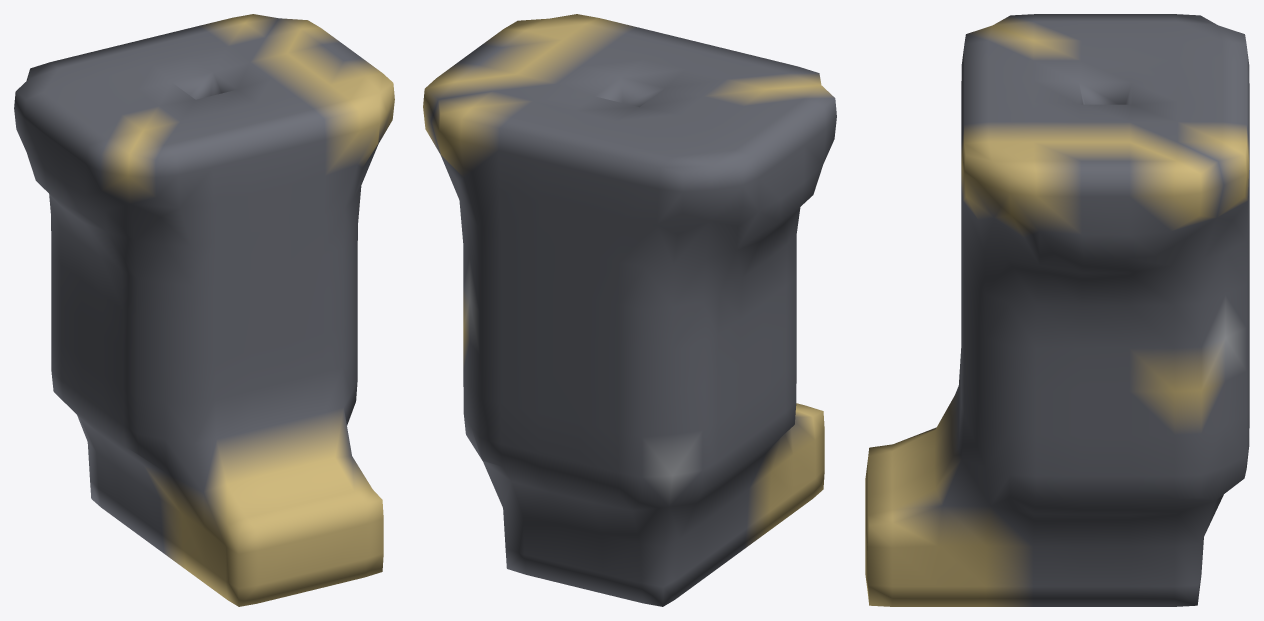
File: plate_legendary_glove_L_lod1.glb
3 views of the same model, side by side, from view 1: azimuth 30°, elevation 25°; view 2: azimuth 150°, elevation 25°; view 3: azimuth 270°, elevation 25° (orthographic). The views are drawn at different scales.
Visible parts, largest first — view 1: plate_legendary_glove_L_lod1; view 2: plate_legendary_glove_L_lod1; view 3: plate_legendary_glove_L_lod1.
Part boxes in pixels (box(x1,y1,x2,y2)): plate_legendary_glove_L_lod1: box(14, 14, 394, 606); plate_legendary_glove_L_lod1: box(423, 14, 836, 606); plate_legendary_glove_L_lod1: box(865, 14, 1249, 606).
Size of the model in its own units: 0.1919 by 0.264 by 0.192.
